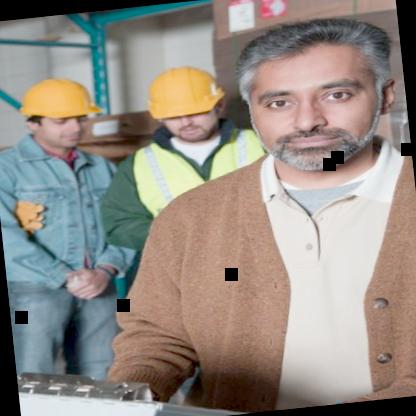head: (227, 12, 407, 182)
helmet: (17, 74, 104, 154), (145, 62, 230, 141)
